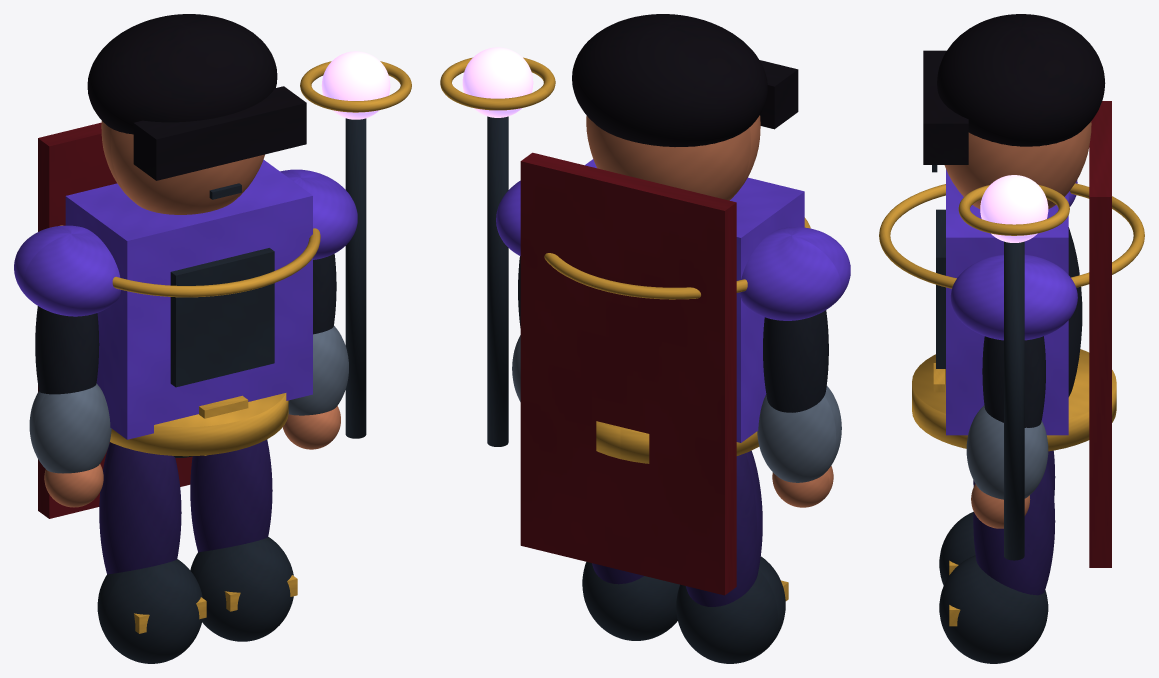
Rendered from Specialization.glb.
3 views of the same model, side by side, from view 1: azimuth 30°, elevation 25°; view 2: azimuth 150°, elevation 25°; view 3: azimuth 270°, elevation 25° (orthographic). The views are drawn at different scales.
Visible parts, largest first — view 1: ChestPlate, Hair, ChestInset, HairFringe, Leg, Boot, Boot.001, Leg.001, Shoulder, Cape, Staff, Head (+12 smaller); view 2: Cape, Hair, Shoulder, ChestPlate, Head, Staff, Boot, Arm, Gauntlet, Boot.001, Leg, StaffOrb (+7 smaller); view 3: Hair, ChestPlate, Cape, Boot.001, Shoulder.001, Staff, Head, Leg.001, WaistGuard, Gauntlet.001, ShoulderCrest, Arm.001 (+7 smaller).
Part boxes in pixels (x1,y1,x2,y2): ChestPlate: [65, 159, 312, 439]; Hair: [87, 14, 277, 134]; ChestInset: [170, 248, 274, 387]; HairFringe: [133, 86, 306, 180]; Leg: [99, 442, 181, 574]; Boot: [97, 559, 202, 663]; Boot.001: [190, 537, 293, 641]; Leg.001: [190, 439, 272, 552]; Shoulder: [14, 225, 120, 316]; Cape: [38, 122, 192, 518]; Staff: [345, 118, 366, 438]; Head: [101, 120, 264, 214]; Cape: [520, 152, 736, 595]; Hair: [572, 14, 767, 146]; Shoulder: [739, 227, 850, 320]; ChestPlate: [585, 159, 804, 442]; Head: [586, 115, 760, 200]; Staff: [487, 116, 508, 446]; Boot: [676, 556, 785, 663]; Arm: [763, 310, 828, 412]; Gauntlet: [757, 385, 841, 482]; Boot.001: [582, 562, 679, 640]; Leg: [686, 450, 762, 606]; StaffOrb: [462, 47, 533, 117]; Hair: [937, 14, 1105, 146]; ChestPlate: [946, 169, 1068, 435]; Cape: [1089, 101, 1111, 567]; Boot.001: [939, 555, 1048, 663]; Shoulder.001: [950, 254, 1077, 340]; Staff: [1004, 241, 1024, 560]; Head: [944, 121, 1091, 208]; Leg.001: [973, 461, 1055, 595]; WaistGuard: [912, 349, 1116, 451]; Gauntlet.001: [966, 405, 1048, 499]; ShoulderCrest: [879, 183, 1144, 288]; Arm.001: [982, 336, 1045, 427].
Bounding box in the file's own units: 1.93 × 2.96 × 1.17.
Materials: 12 (9 with a texture image).
